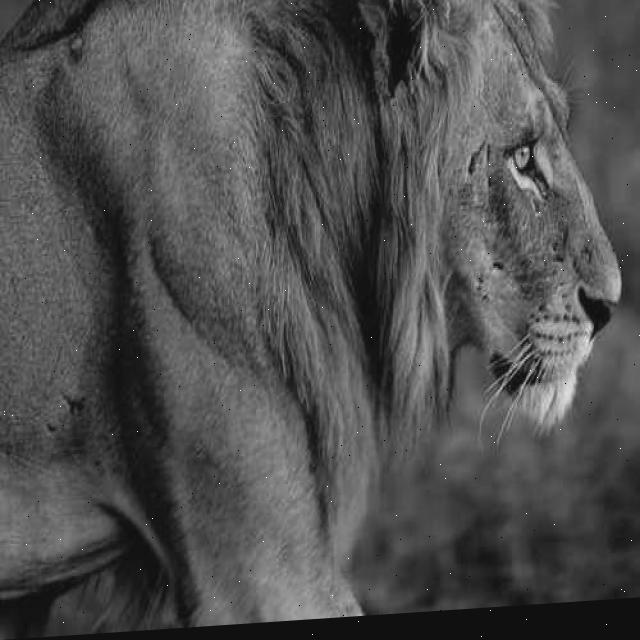Lion: (346, 0, 640, 494)
